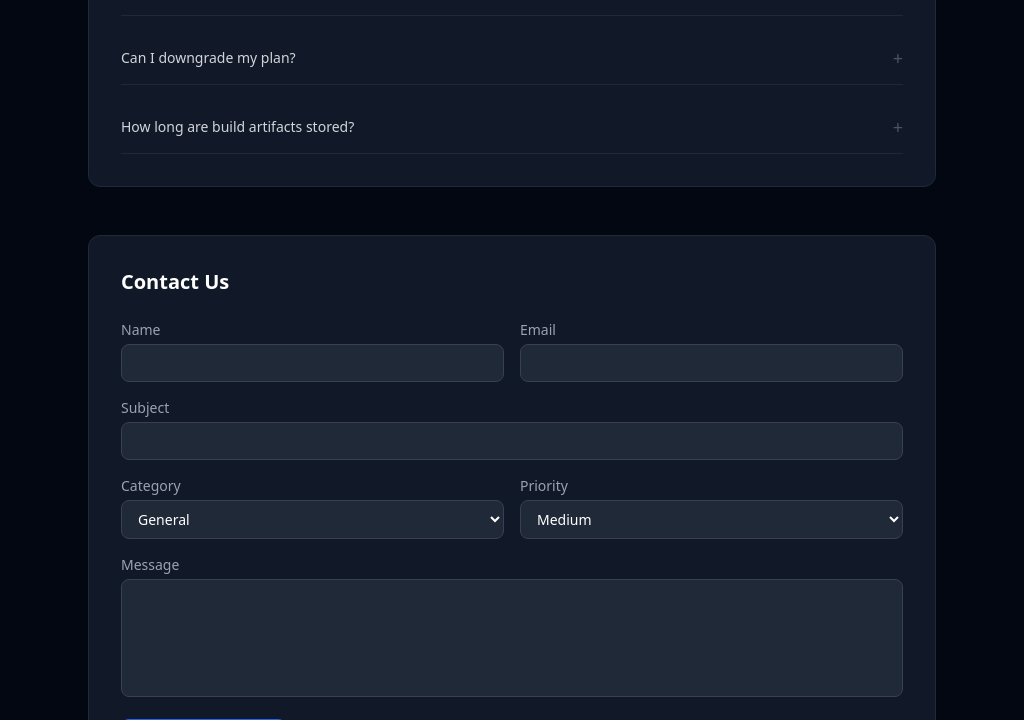
Scenario: SupportPage › submits ticket successfully and shows confirmation
(page scrolled)
In the field labelled "Name": (312, 363) [121,344,504,382], type "John Doe"
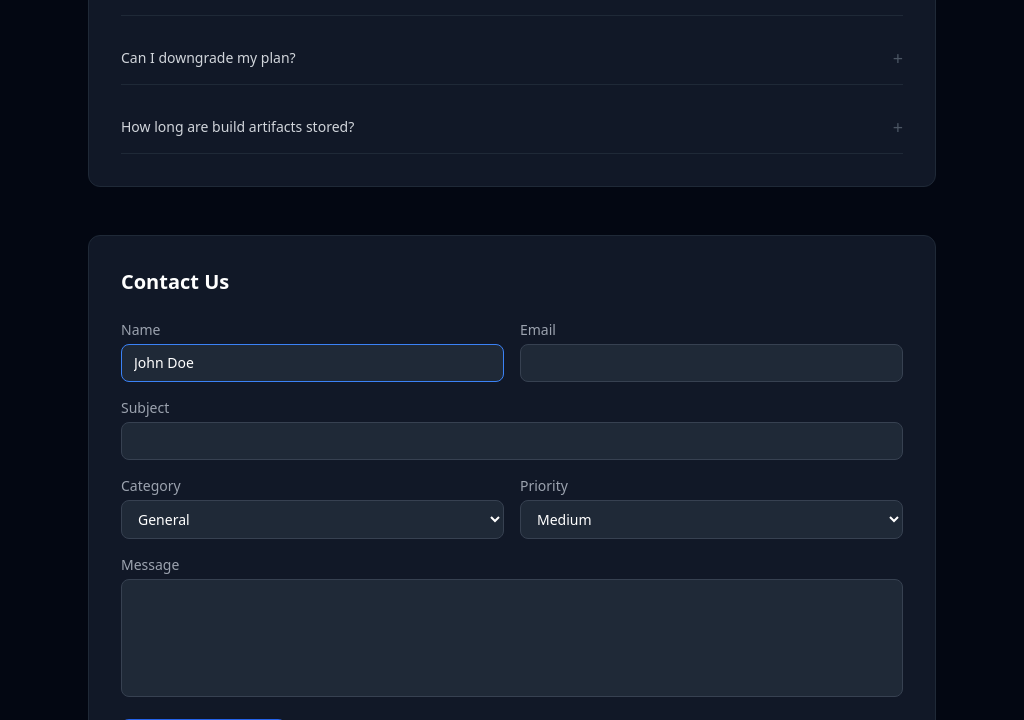
In the field labelled "Email": (712, 363) [520,344,903,382], type "john@example.com"
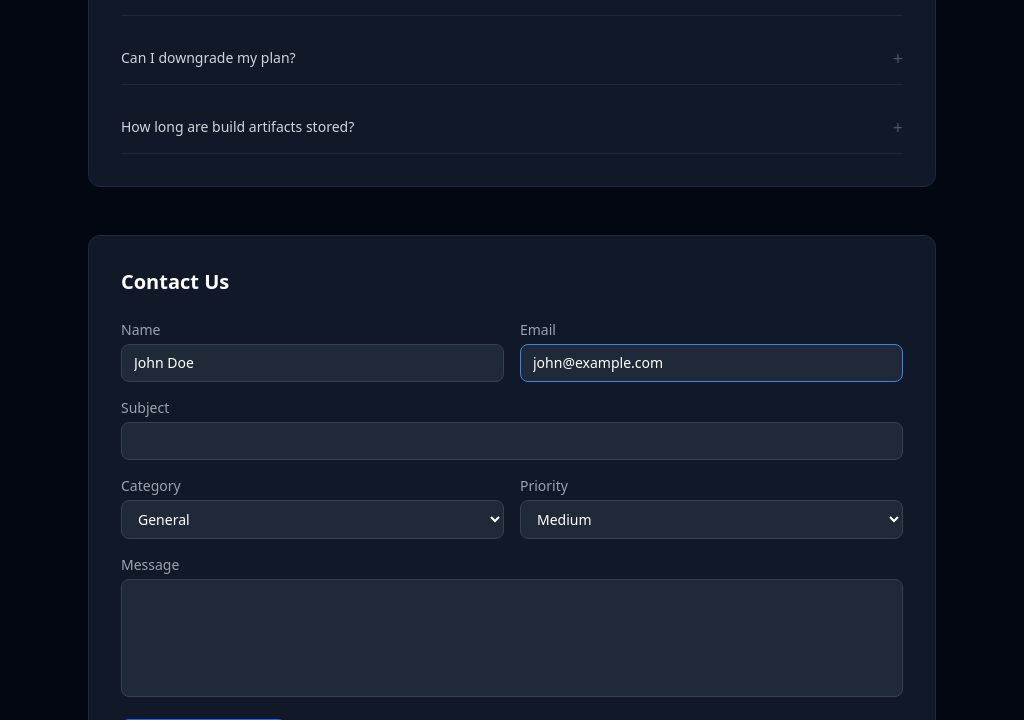
In the field labelled "Subject": (512, 441) [121,422,903,460], type "Test Subject"
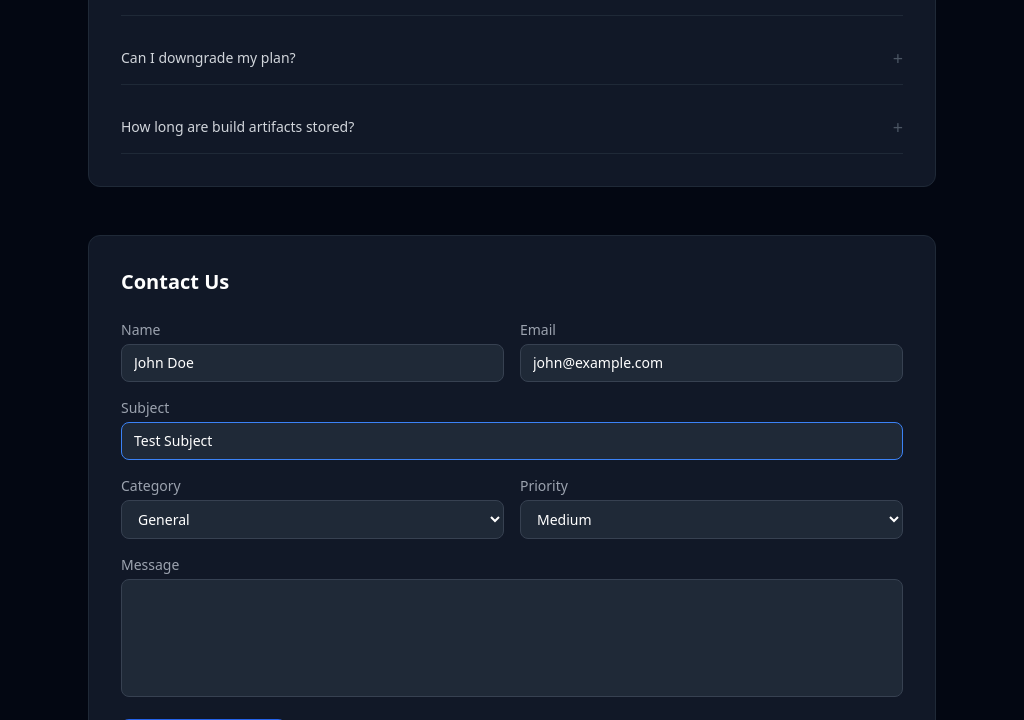
In the text box labelled "Message": (512, 638) [121,579,903,697], type "This is a test message"
(page scrolled)
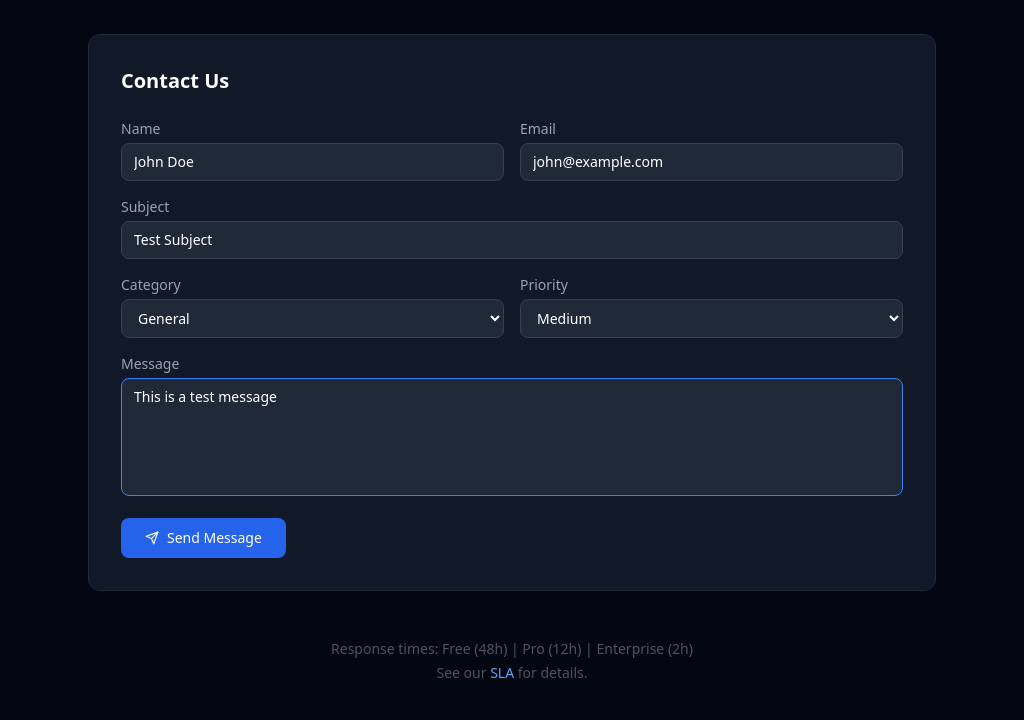
Click the button "Send Message": (203, 538) [121,518,286,558]
(page scrolled)
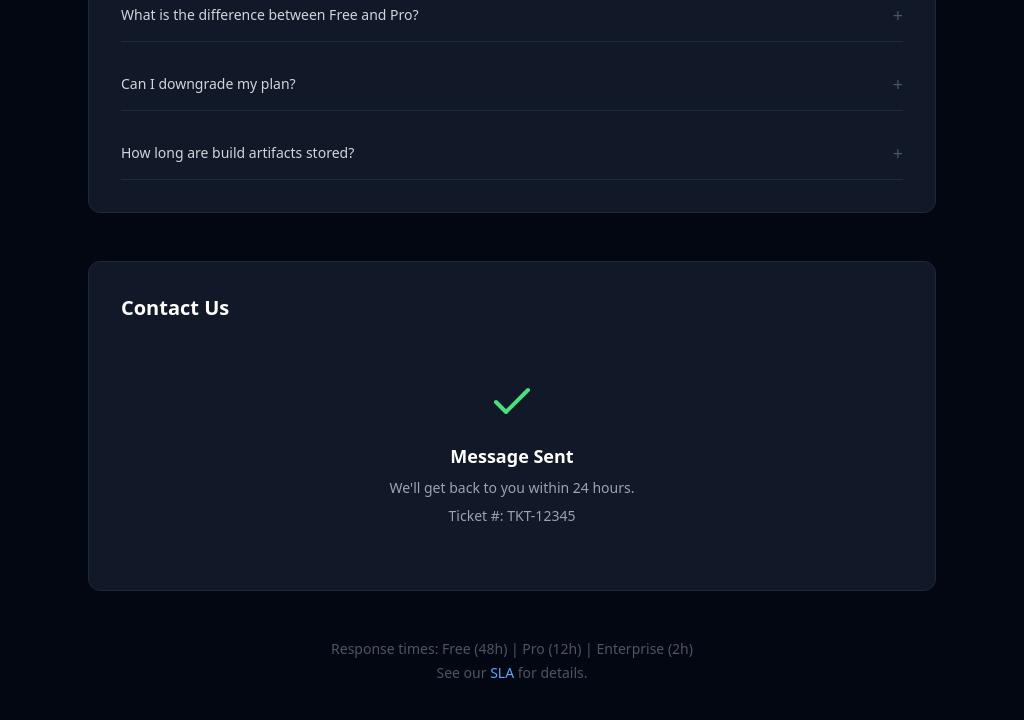
Expected: the heading "Message Sent" is shown, [450,444,574,468]
Expected: the text "We'll get back to you within 24 hours." is shown, [390,478,634,497]
Expected: the text "Ticket #: TKT-12345" is shown, [449,506,576,525]
